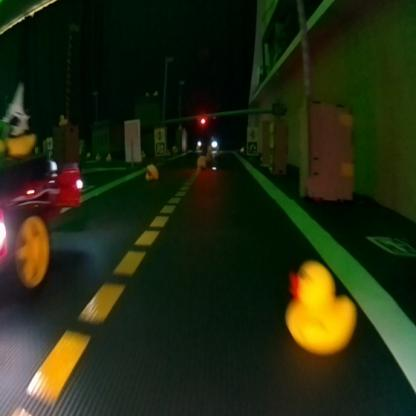duckie: (281, 243, 370, 360), (140, 154, 165, 186)
duckiebot: (0, 156, 90, 286)
